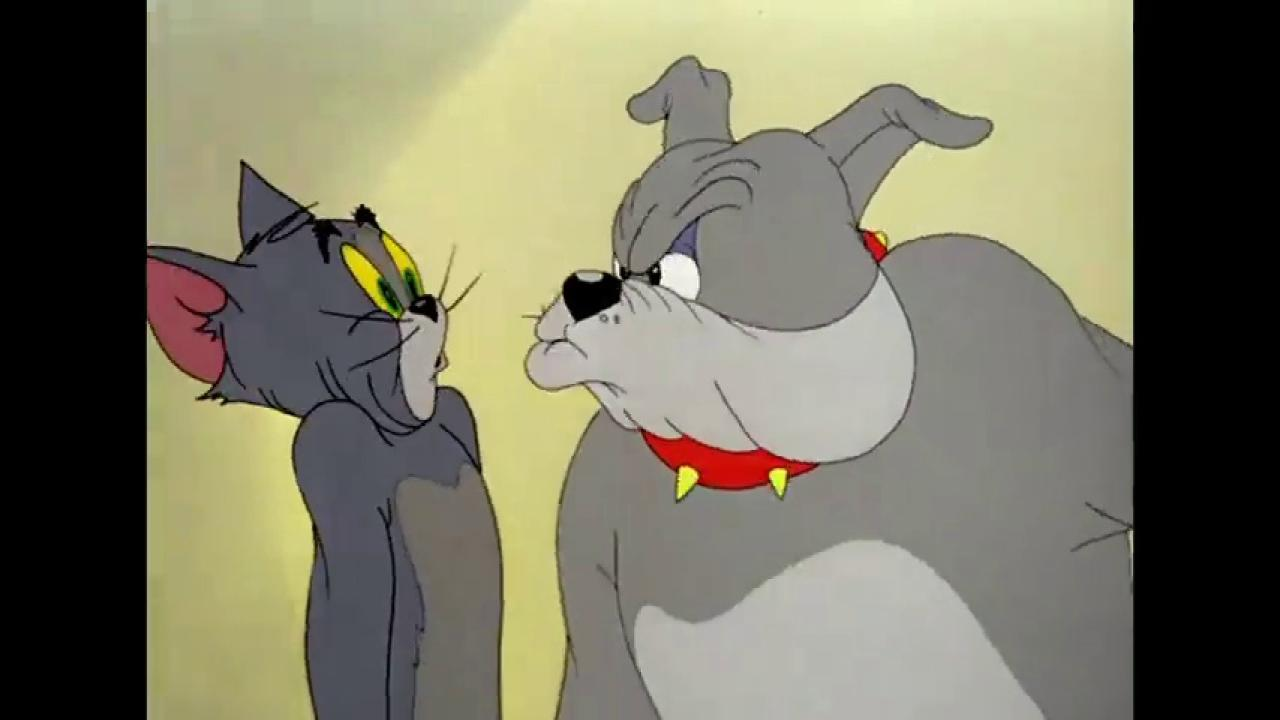Tom: (149, 156, 507, 720)
